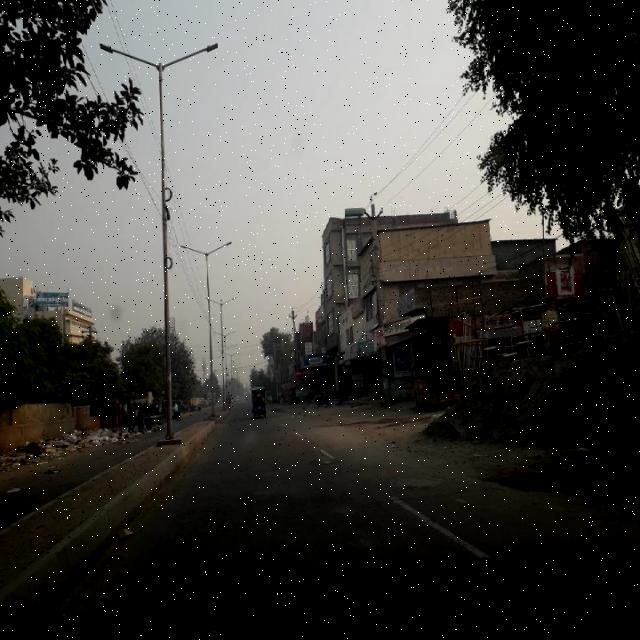D50: (384, 467, 451, 489)
